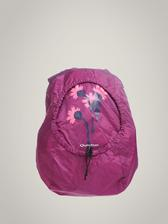bag: (32, 67, 140, 198)
